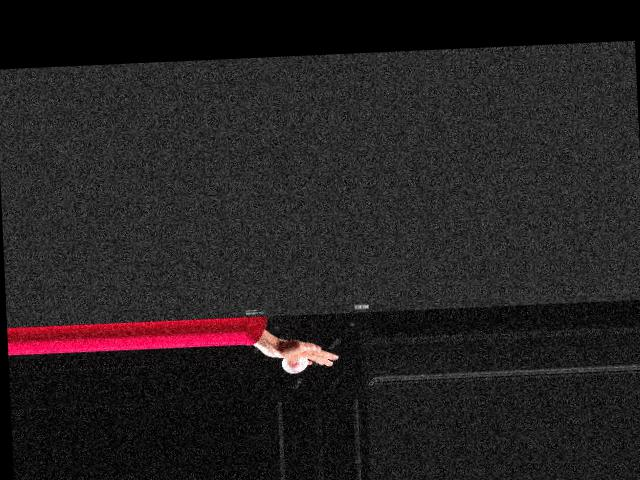egg: (280, 355, 307, 373)
